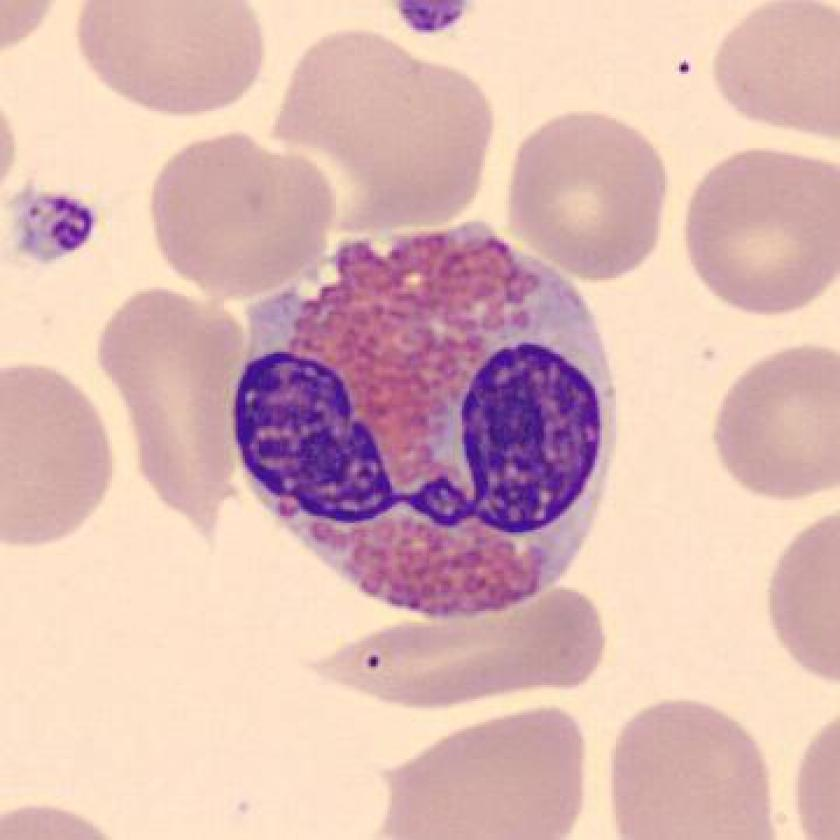eosinophil: (225, 207, 631, 628)
